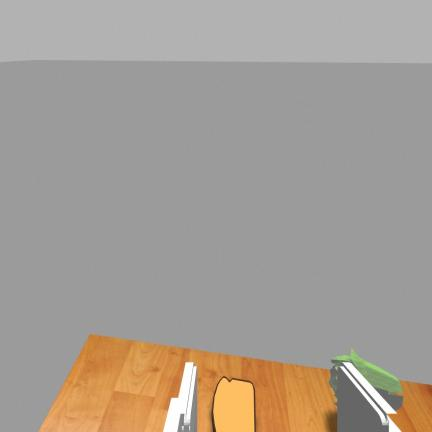lettuce: (329, 349, 402, 409)
sliced_bread: (212, 377, 255, 431)
